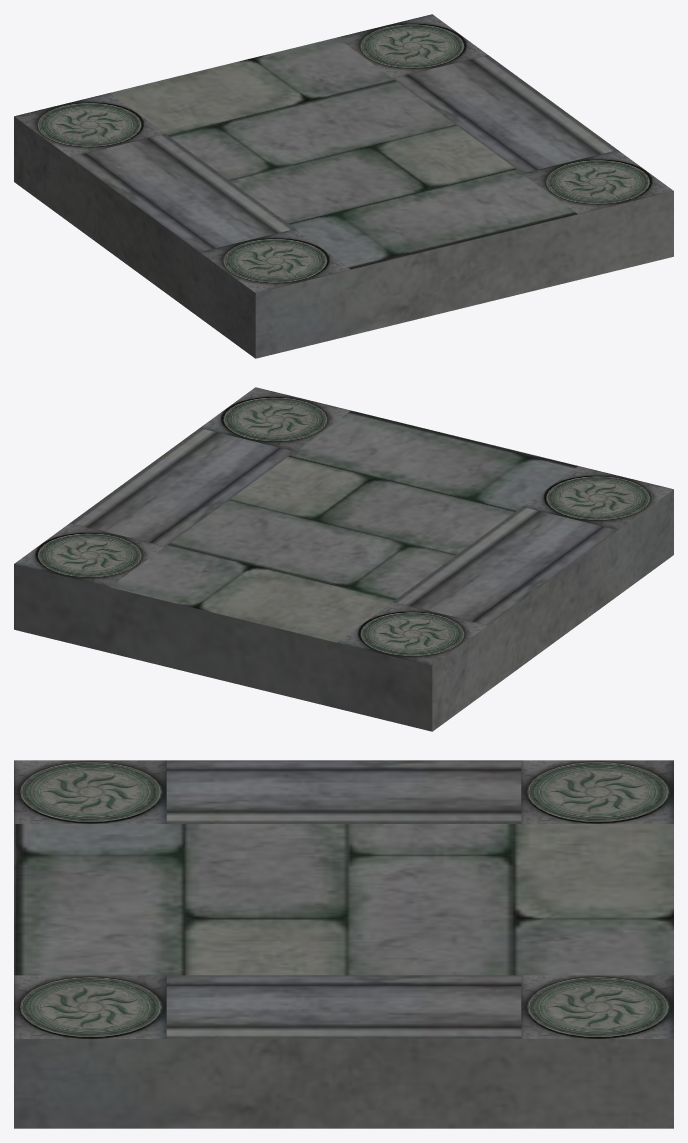
File: floor_small_trim_LR_01.glb
3 renders of one model, top to bottom at view 1: azimuth 30°, elevation 25°; view 2: azimuth 150°, elevation 25°; view 3: azimuth 270°, elevation 25°, orthographic. The views are drawn at different scales.
Parts seen in each view (by area): view 1: floor_small_trim_LR_01; view 2: floor_small_trim_LR_01; view 3: floor_small_trim_LR_01.
Boxes of the visible parts, box(x1,y1,x2,y2) form: floor_small_trim_LR_01: box(14, 14, 673, 358); floor_small_trim_LR_01: box(14, 387, 673, 731); floor_small_trim_LR_01: box(14, 760, 673, 1128).
Bounding box in the file's own units: 2 × 0.3 × 2.
1 material, 1 textured.
